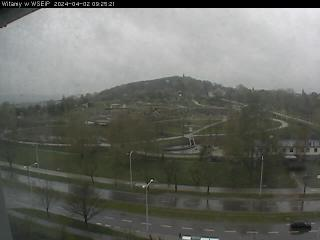car: (288, 219, 312, 230)
